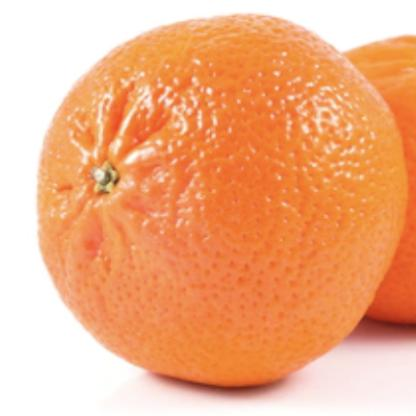fresh: (34, 15, 406, 393)
